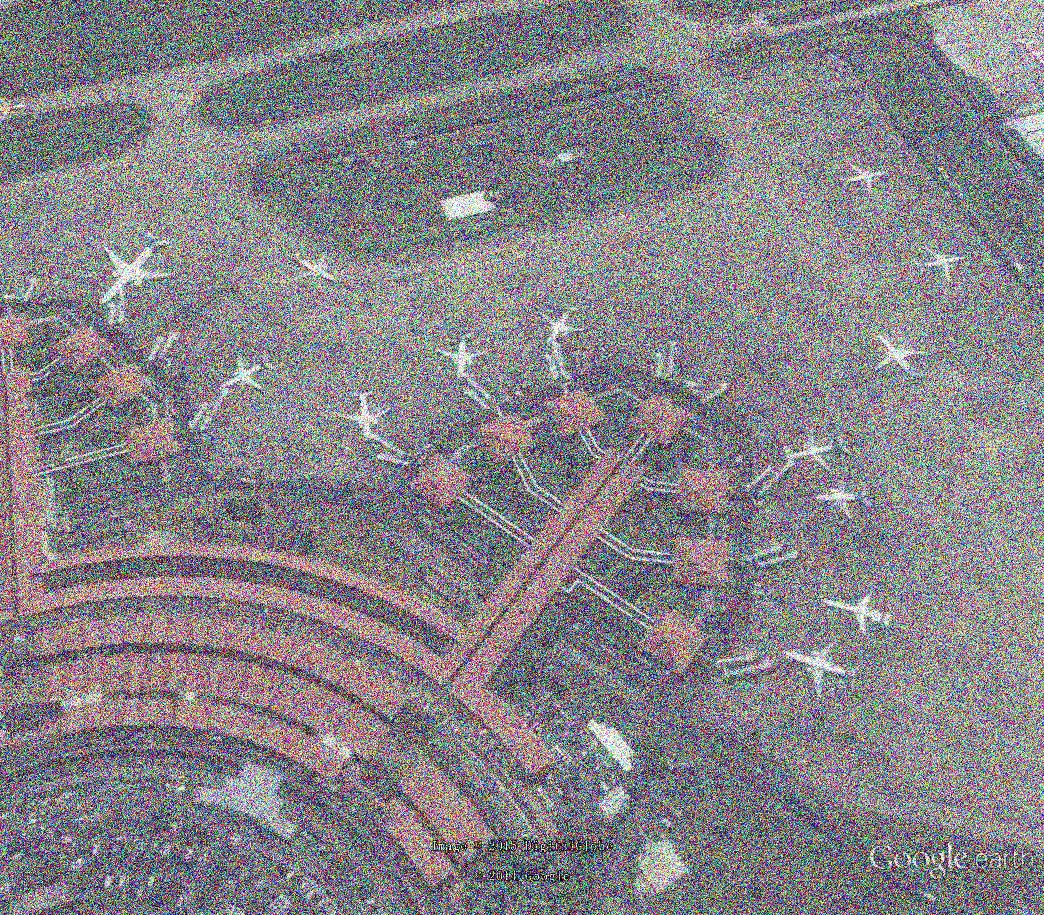aircraft: (96, 225, 184, 316), (778, 640, 865, 703), (781, 424, 859, 481), (820, 591, 895, 645), (331, 388, 396, 447), (871, 330, 933, 391), (433, 322, 490, 387), (810, 475, 877, 526), (216, 346, 276, 400), (910, 243, 973, 288), (534, 298, 586, 351), (835, 162, 894, 204), (286, 246, 340, 288), (1008, 33, 1044, 75)
